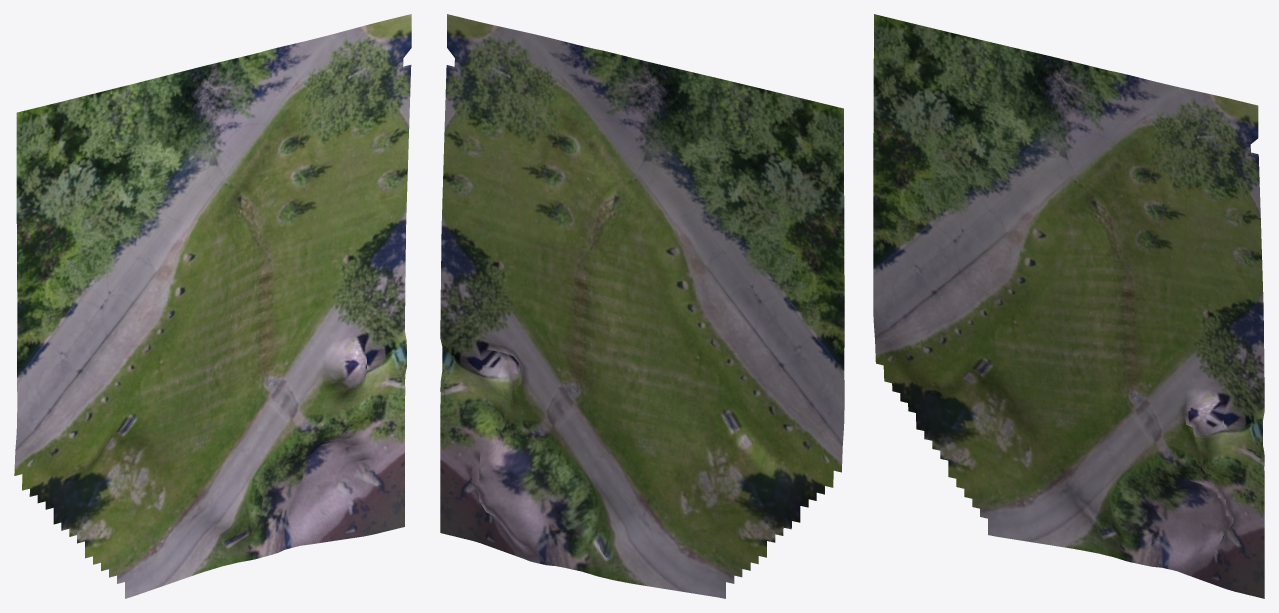
The model's file is odm_textured_model.obj.
3 renders of one model, left to right at view 1: azimuth 30°, elevation 25°; view 2: azimuth 150°, elevation 25°; view 3: azimuth 330°, elevation 25°, orthographic. The views are drawn at different scales.
Bounding box in the file's own units: 49.76 × 61.95 × 4.92.
1 material, 1 textured.
